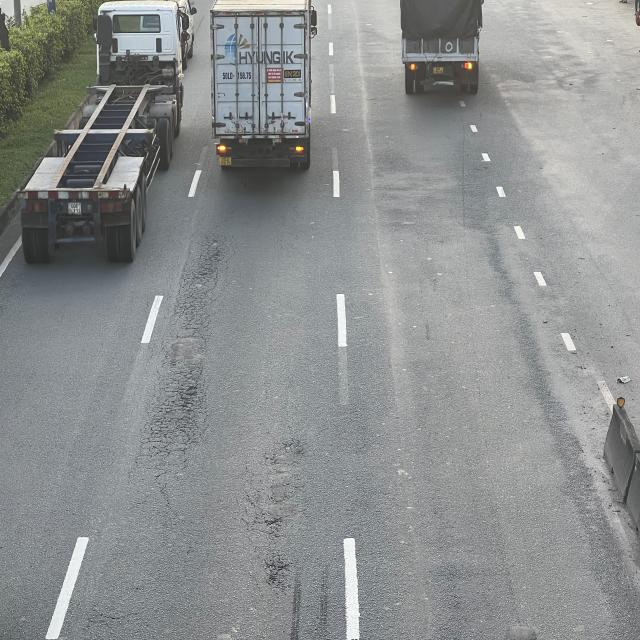container: (23, 3, 192, 266), (208, 1, 315, 170)
truck: (399, 0, 486, 97)
